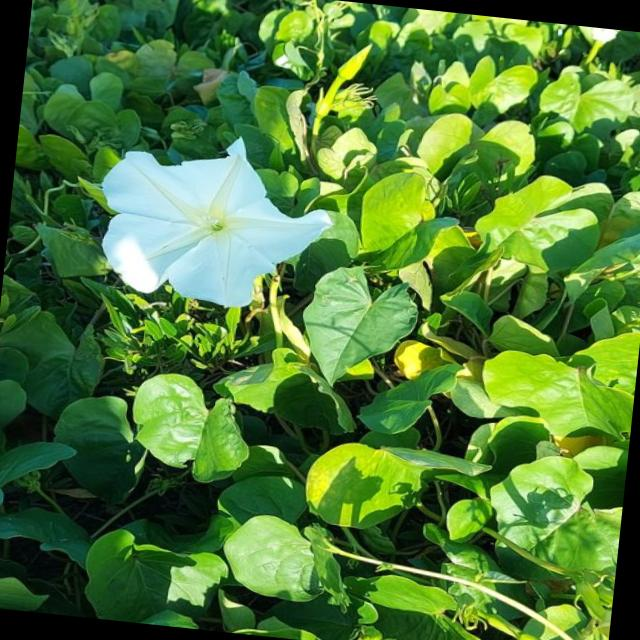ipomoea: (84, 120, 343, 319)
